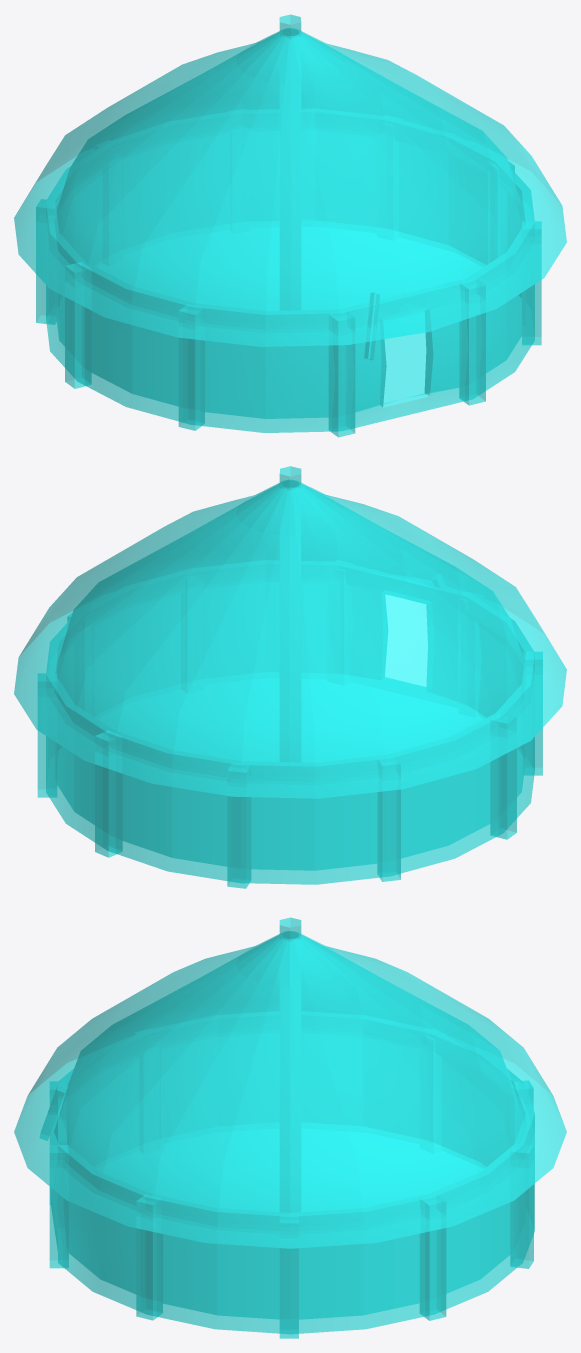
File: SM_Bld_Shack_09_Collision.fbx
The picture shows the model from 3 angles, top to bottom: view 1: azimuth 30°, elevation 25°; view 2: azimuth 150°, elevation 25°; view 3: azimuth 270°, elevation 25°; orthographic projection.
Parts seen in each view (by area): view 1: SM_Bld_Shack_09_Collision; view 2: SM_Bld_Shack_09_Collision; view 3: SM_Bld_Shack_09_Collision.
Boxes of the visible parts, x1,y1,x2,y2 form: SM_Bld_Shack_09_Collision: (14,14,566,437); SM_Bld_Shack_09_Collision: (14,466,566,888); SM_Bld_Shack_09_Collision: (14,917,566,1338).
Size of the model in its own units: 1341 by 829 by 1341.
